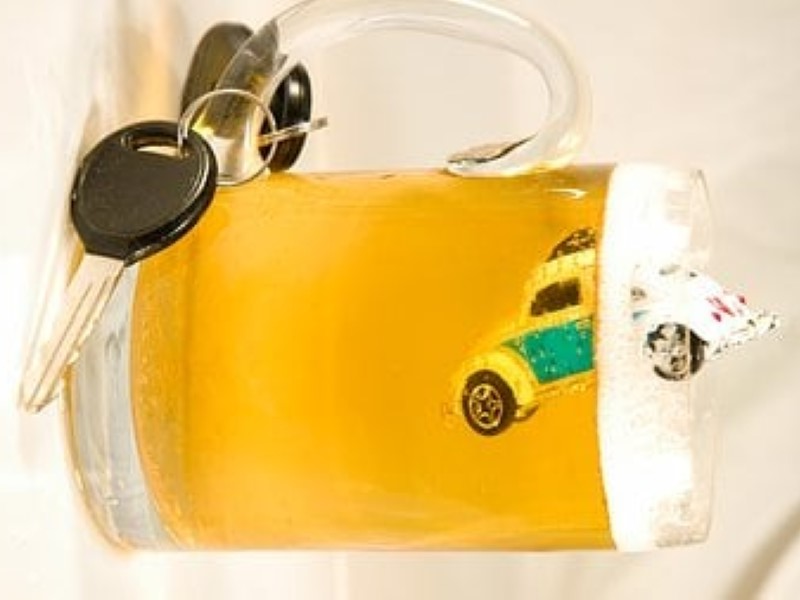key: (9, 109, 220, 416)
